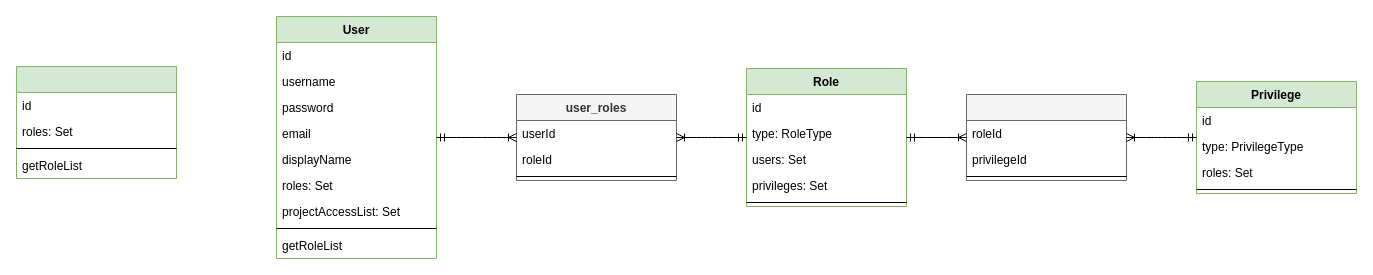
The diagram is 1373 pixels wide and 275 high, and some of its shapes have lost their labels. The shapes that lost their labels are listed below. From the top down, each one's box as (x1, y1, x2, y2) in pixels, then its label:
(16, 66, 176, 178): Computation
(966, 94, 1126, 180): roles_privileges
